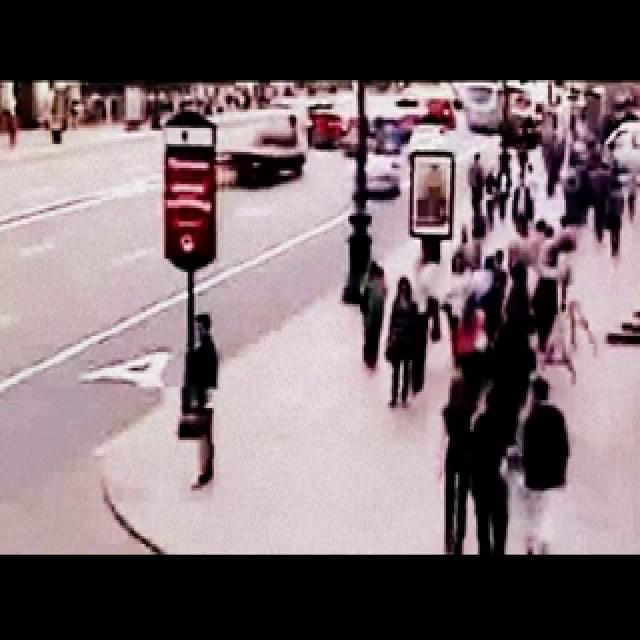road accidents: (228, 108, 384, 283)
